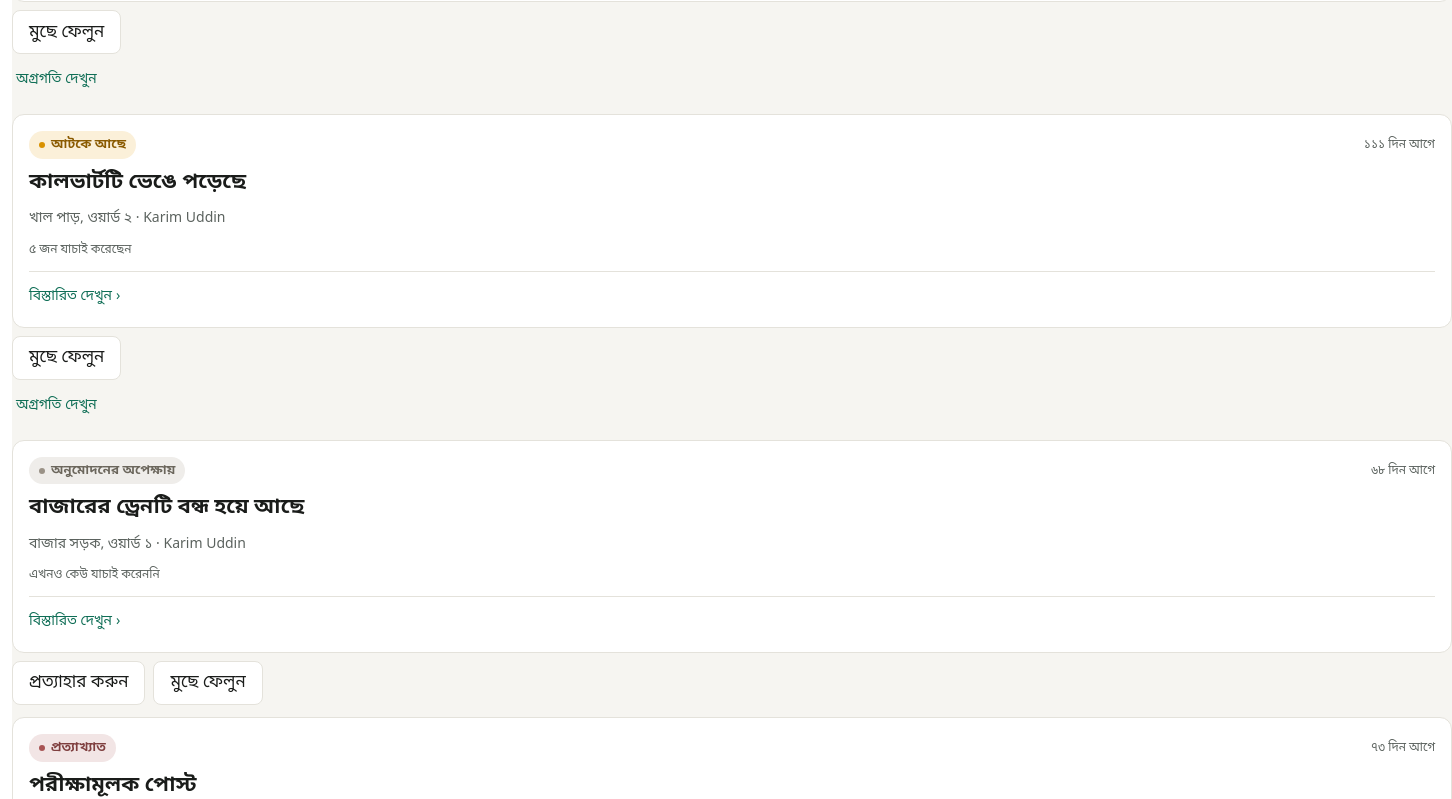
it: MyReports › expands a planned case to the plan and the top-suggestion pairing
(page scrolled)
Expected: the heading "কালভার্টটি ভেঙে পড়েছে" is shown, 29,169 -> 246,197
Click the button "অগ্রগতি দেখুন" below "খাল পাড়, ওয়ার্ড ২". click: (56, 406)
box: 12,384 -> 101,428
(page scrolled)
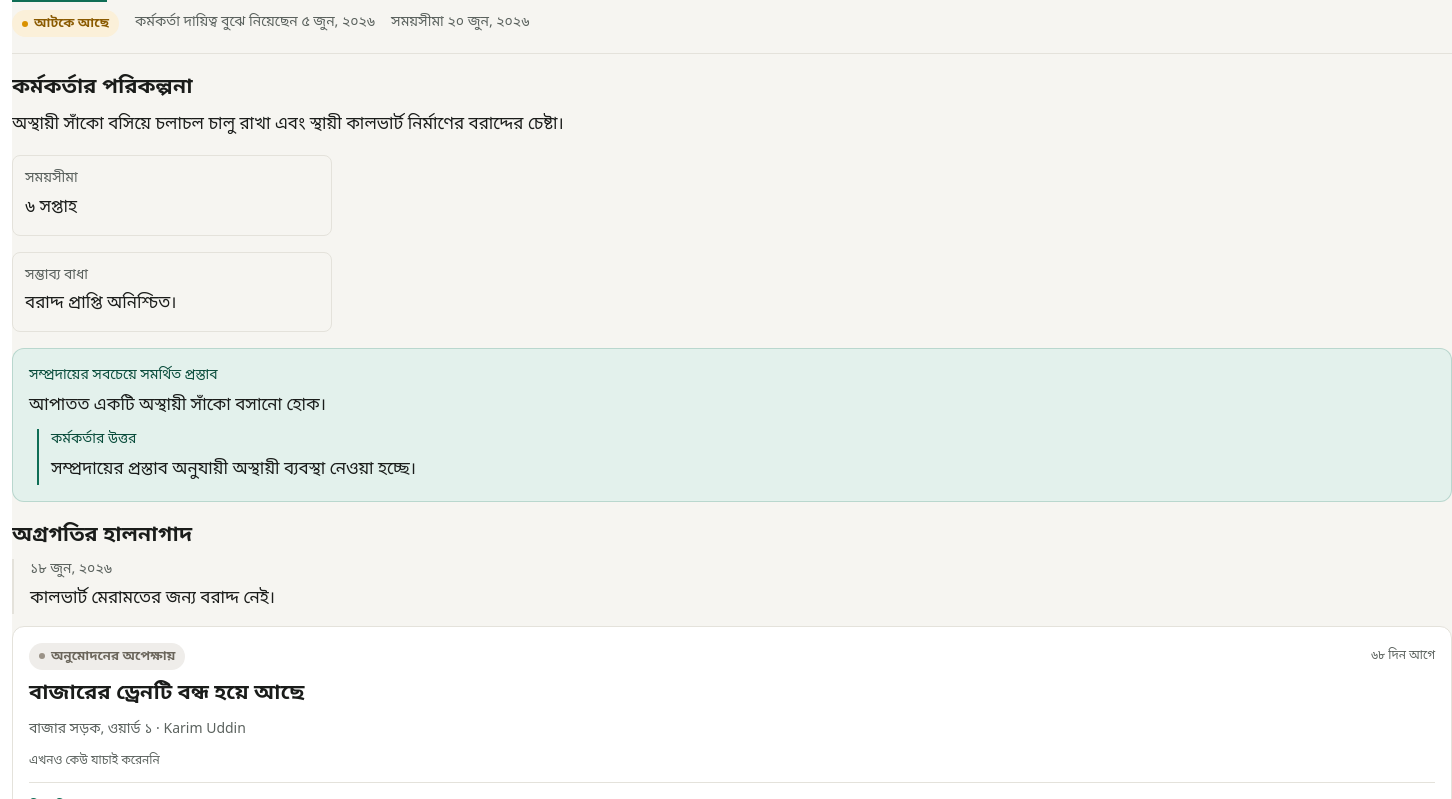
Now the heading "কর্মকর্তার পরিকল্পনা" is shown, box 12,74 -> 193,102
Now the text "আপাতত একটি অস্থায়ী সাঁকো বসানো হোক।" is shown, box 29,394 -> 326,417
